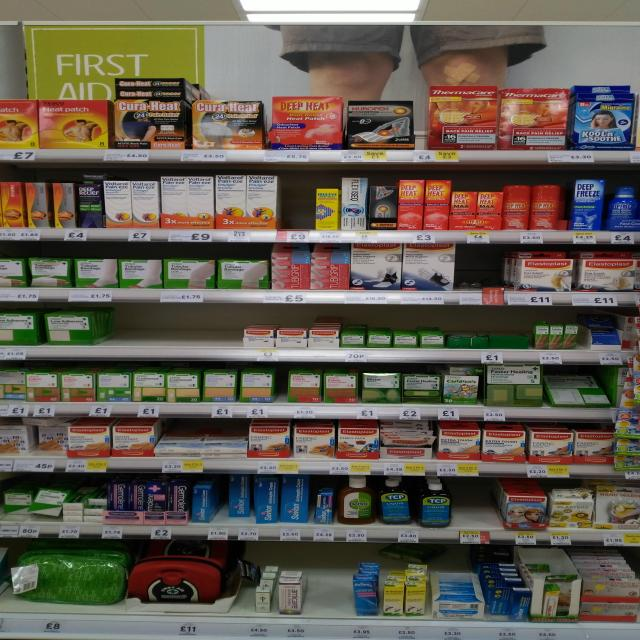empty_space: (104, 309, 244, 345), (305, 563, 355, 615), (275, 177, 317, 231), (458, 243, 502, 293), (454, 486, 500, 526)
